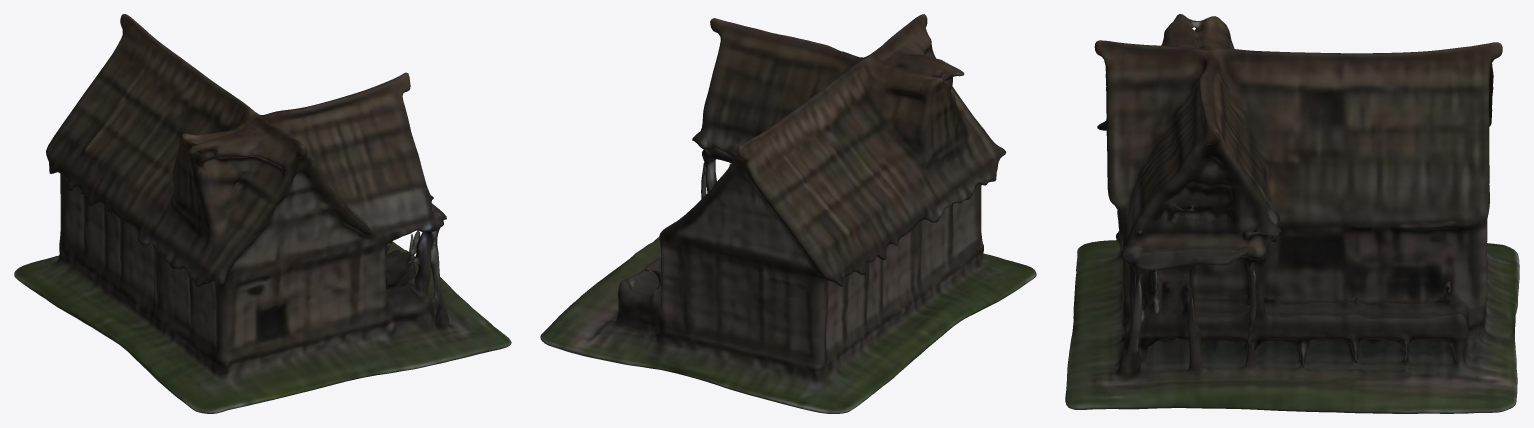
File: house1.glb
3 renders of one model, left to right at view 1: azimuth 30°, elevation 25°; view 2: azimuth 150°, elevation 25°; view 3: azimuth 270°, elevation 25°, orthographic. The views are drawn at different scales.
Parts seen in each view (by area): view 1: world; view 2: world; view 3: world.
Boxes of the visible parts, box(x1,y1,x2,y2) form: world: box(14, 14, 511, 413); world: box(540, 14, 1036, 413); world: box(1065, 14, 1519, 413).
Size of the model in its own units: 0.3726 by 0.2694 by 0.4156.
Materials: 1 (1 with a texture image).
